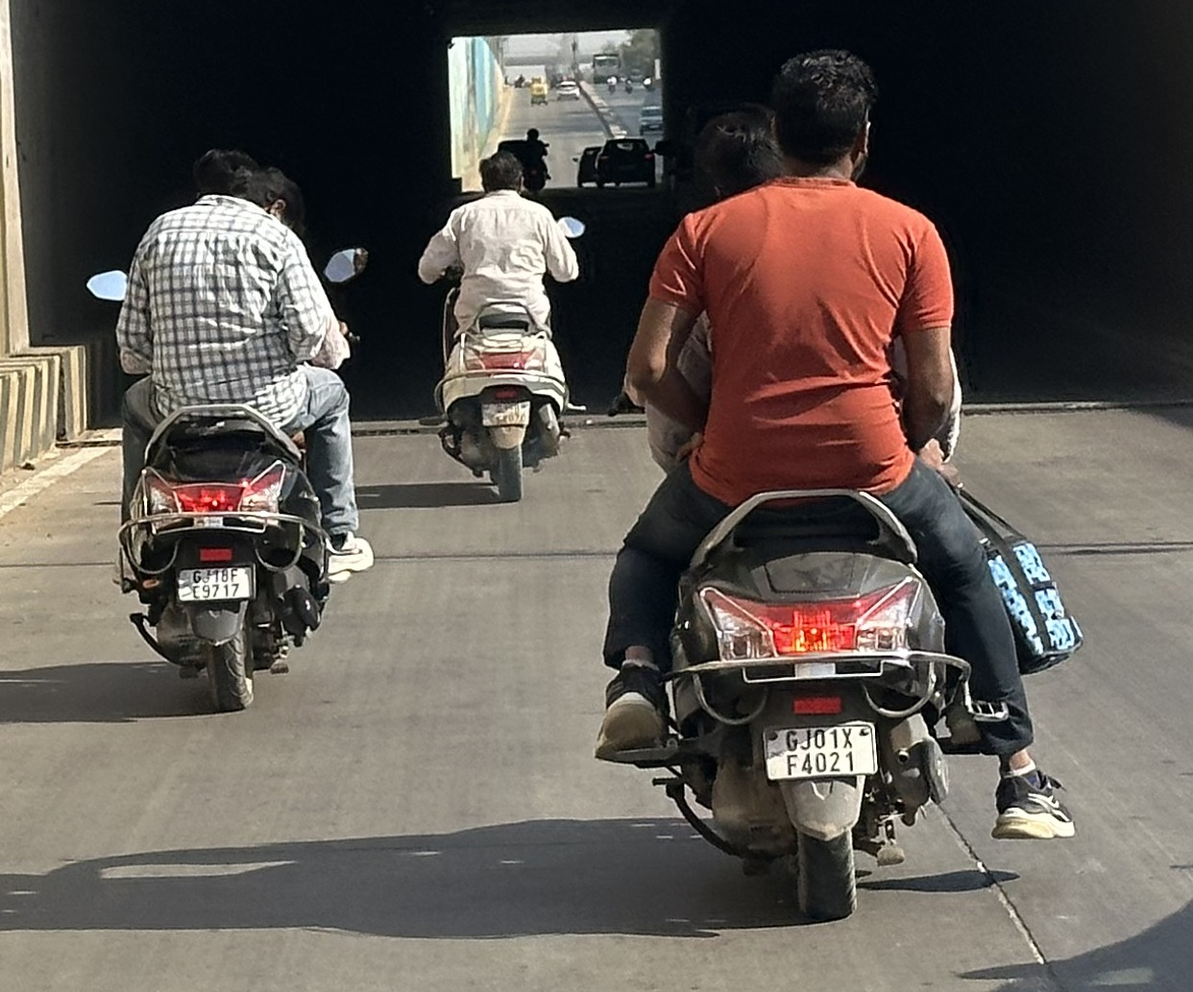BikeWithRider: (588, 54, 1083, 927), (83, 147, 378, 714), (414, 150, 588, 503)
NoHelmet: (766, 55, 874, 188), (700, 101, 792, 202), (232, 160, 290, 230), (194, 152, 259, 201), (476, 155, 528, 201)
